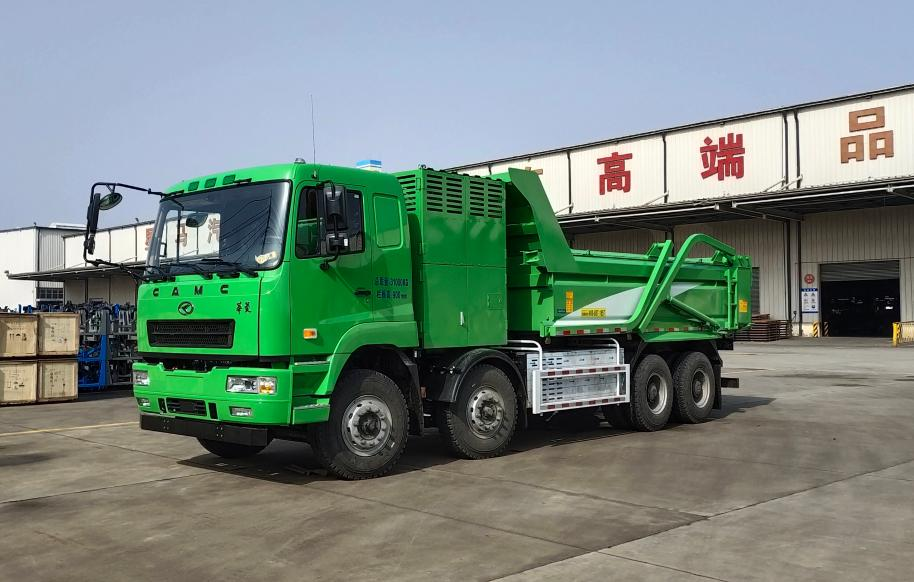truck: (110, 139, 757, 489)
